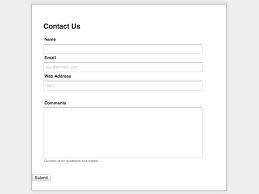button: (33, 175, 52, 182)
input: (44, 63, 204, 74), (44, 45, 204, 56), (45, 81, 204, 92)
label: (44, 24, 81, 31), (45, 74, 73, 80), (44, 101, 68, 106), (44, 37, 58, 43), (44, 56, 58, 61)
